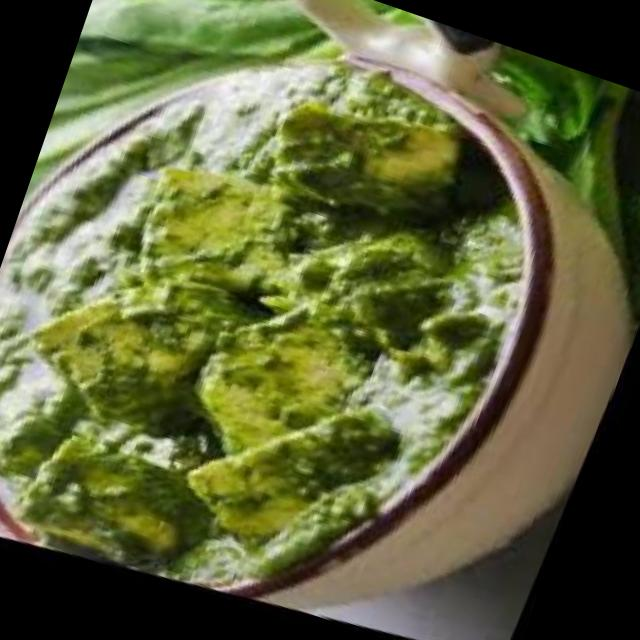palak_paneer: (0, 0, 598, 640)
